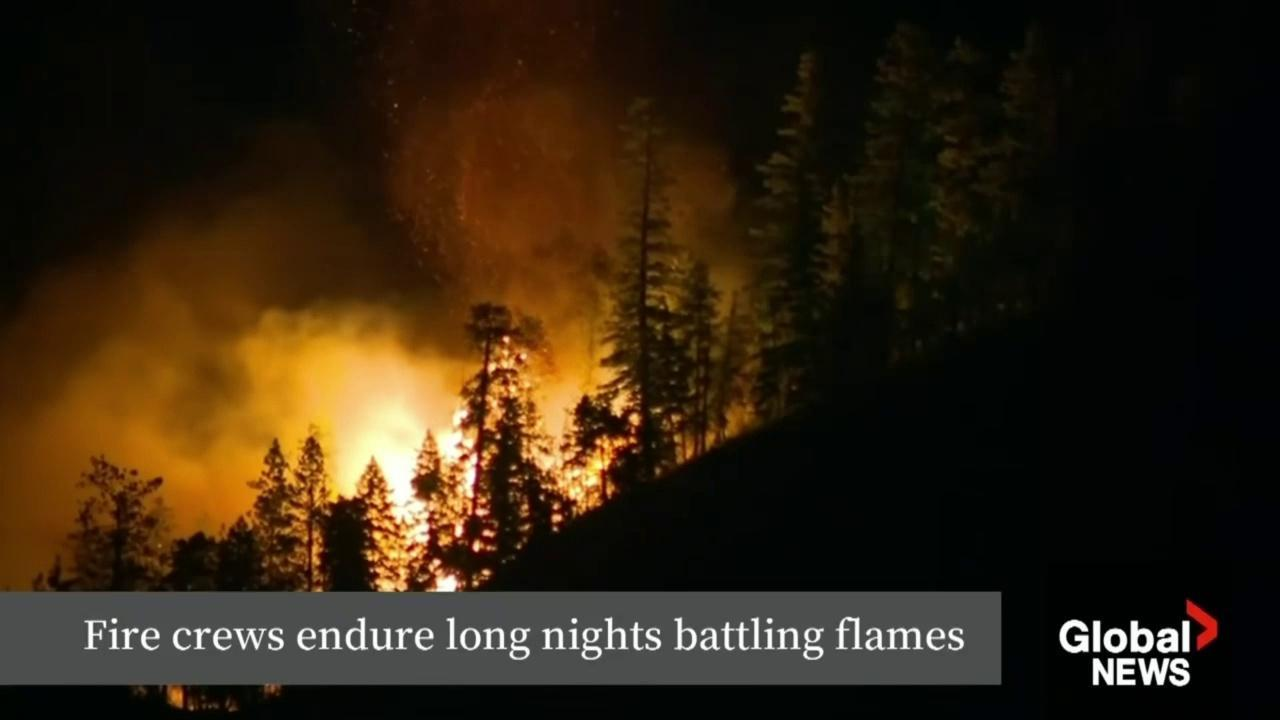fire: (361, 331, 620, 592)
smoke: (0, 0, 782, 593)
